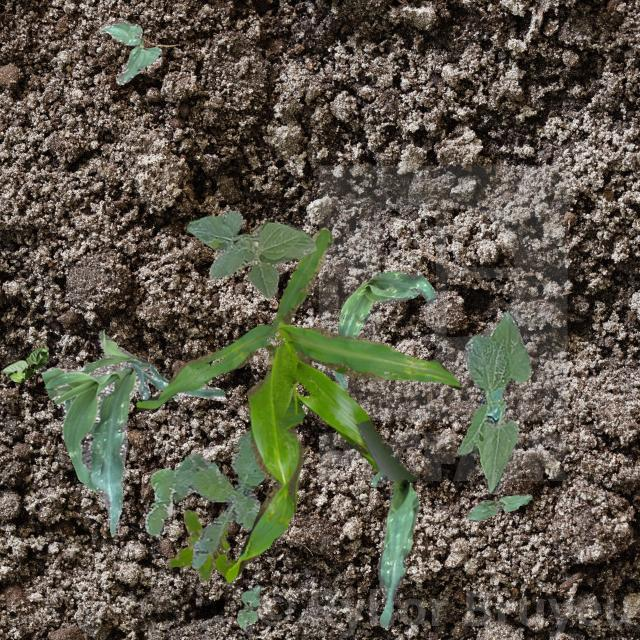crop: (136, 227, 460, 582), (40, 330, 224, 536), (456, 310, 530, 492), (332, 268, 436, 386), (186, 208, 316, 296), (370, 469, 418, 626), (101, 21, 160, 84), (466, 492, 532, 520), (2, 344, 48, 380), (237, 584, 260, 628)
weed: (143, 429, 264, 566), (168, 508, 235, 582)
